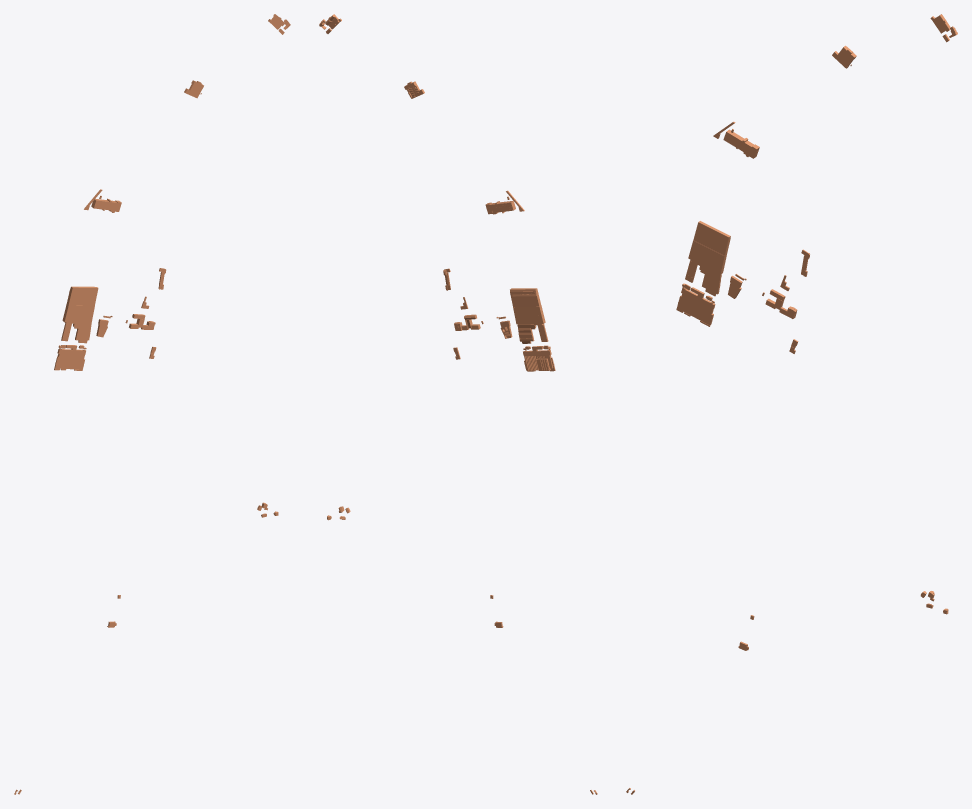
The model's file is buildingsOrange.fbx.
3 views of the same model, side by side, from view 1: azimuth 30°, elevation 25°; view 2: azimuth 150°, elevation 25°; view 3: azimuth 330°, elevation 25° (orthographic). The views are drawn at different scales.
Visible parts, largest first — view 1: orange:Analysis_ROMANOorange; view 2: orange:Analysis_ROMANOorange; view 3: orange:Analysis_ROMANOorange.
Part boxes in pixels (<box>): orange:Analysis_ROMANOorange: <box>14,14,290,794</box>; orange:Analysis_ROMANOorange: <box>319,14,597,794</box>; orange:Analysis_ROMANOorange: <box>626,14,957,794</box>.
Size of the model in its own units: 1144 by 33.06 by 2829.
